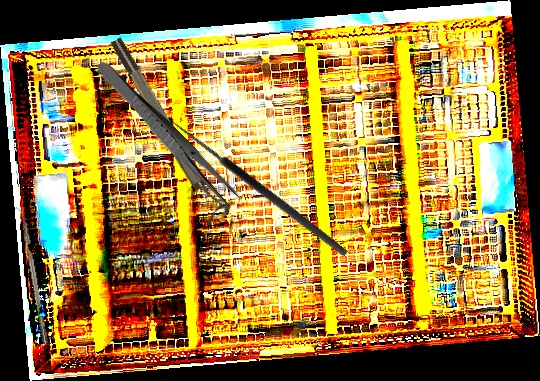Chopper: (14, 205, 48, 346)
Dressing Forceps: (91, 58, 243, 210)
Fixation Ring: (106, 30, 233, 227)
Hook Surgical: (162, 118, 350, 266)
